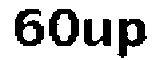0: (46, 6, 80, 48)
6: (12, 4, 46, 49)
p: (116, 17, 150, 60)
u: (81, 14, 114, 52)
